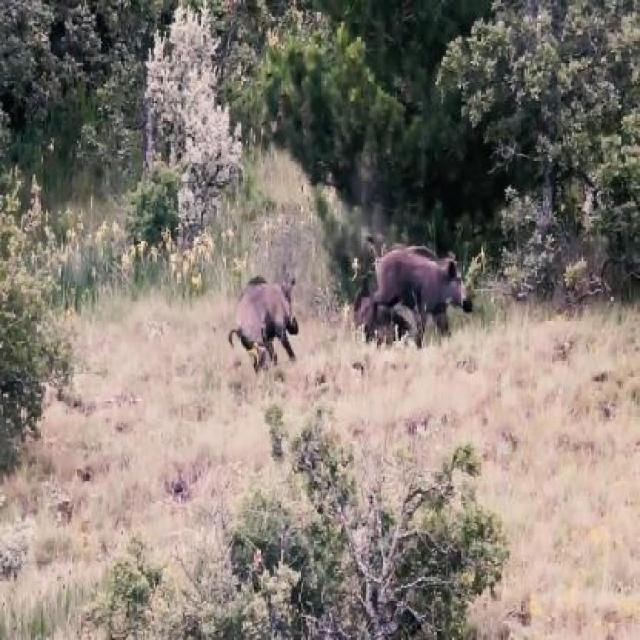Boar: (357, 231, 477, 391), (219, 232, 306, 434)
